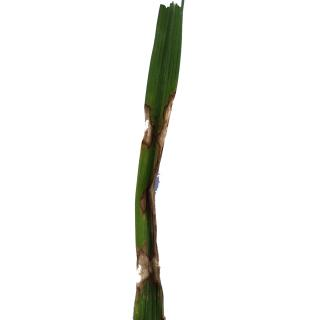Hawar-Daun: (140, 93, 177, 155), (136, 245, 162, 293), (141, 178, 162, 224)
